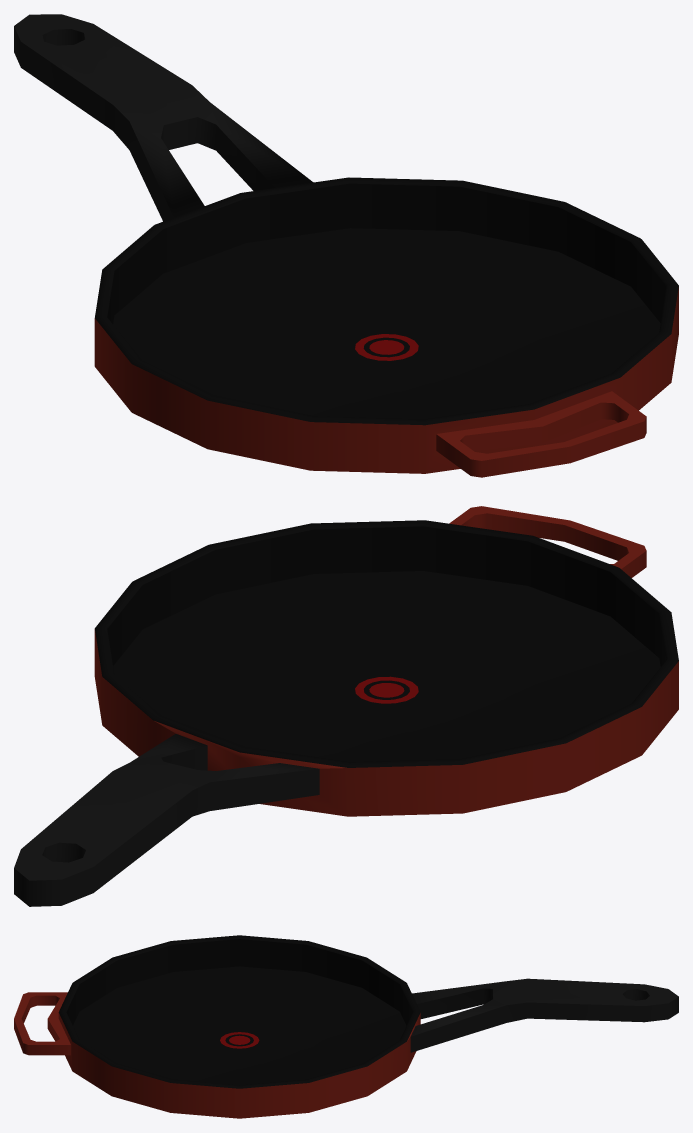
The model's file is frying pan.obj.
3 views of the same model, one above another, from view 1: azimuth 30°, elevation 25°; view 2: azimuth 150°, elevation 25°; view 3: azimuth 270°, elevation 25° (orthographic). The views are drawn at different scales.
Parts seen in each view (by area): view 1: Circle; view 2: Circle; view 3: Circle.
Boxes of the visible parts, <box> form: Circle: <box>14,14,678,477</box>; Circle: <box>14,506,678,906</box>; Circle: <box>14,935,678,1118</box>.
Size of the model in its own units: 2.47 by 0.4499 by 4.53.
